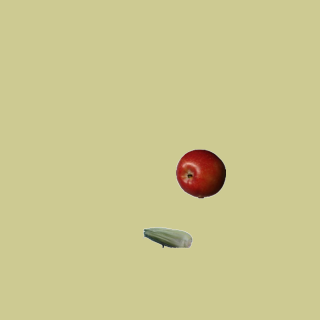Apple Braeburn: (175, 148, 225, 198)
Corn Husk: (142, 212, 192, 262)
